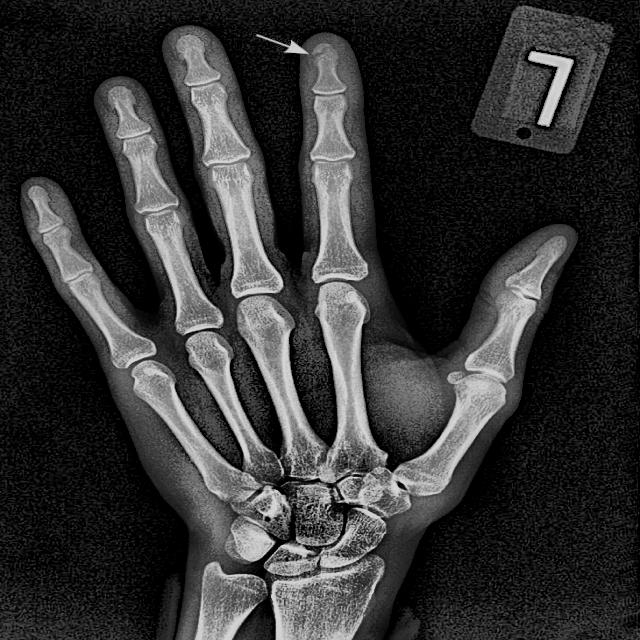fracture: (312, 43, 338, 65)
